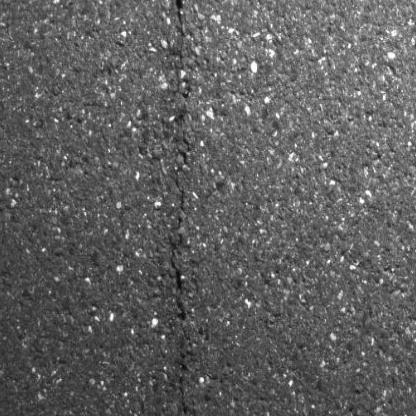Cracks: (166, 161, 199, 416), (168, 0, 189, 71)
